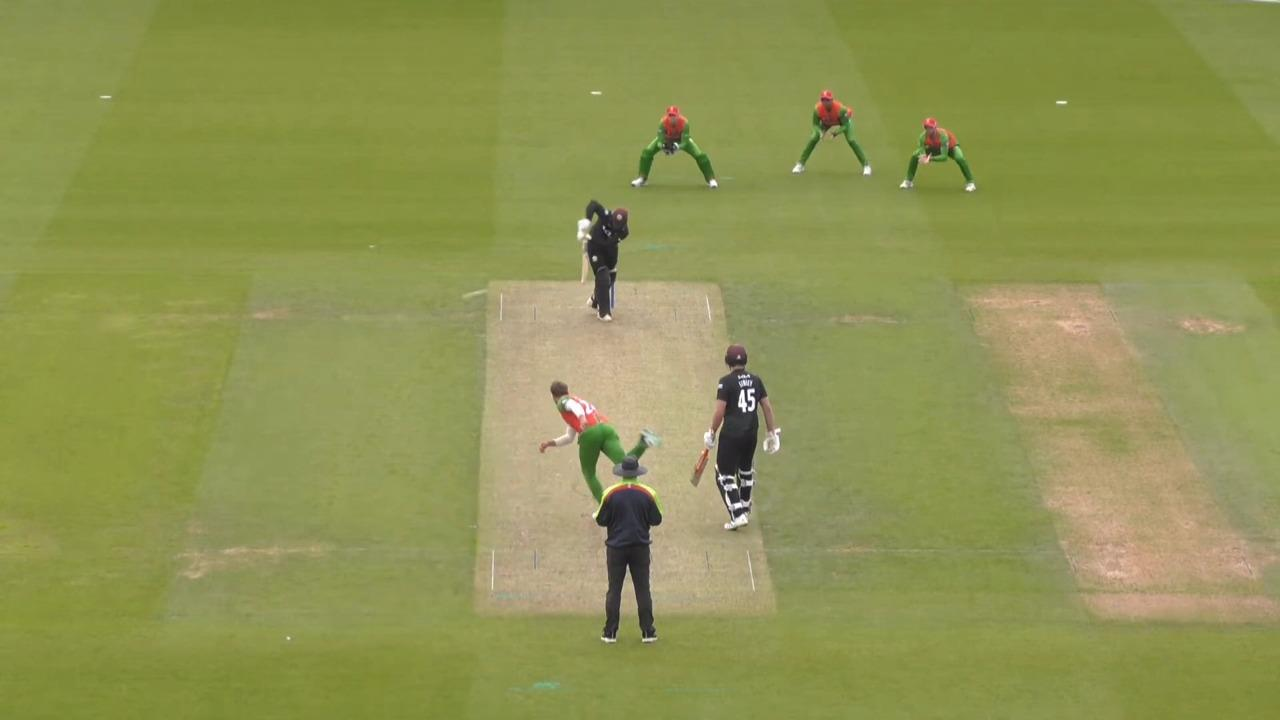sports ball: (462, 289, 487, 298)
